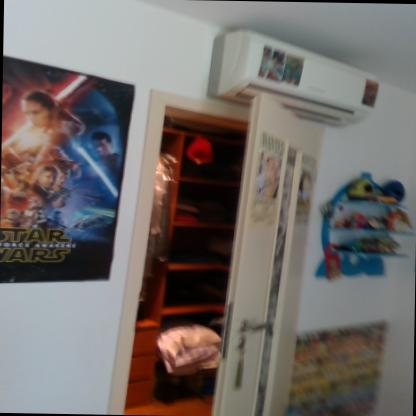semi: (79, 113, 335, 415)
